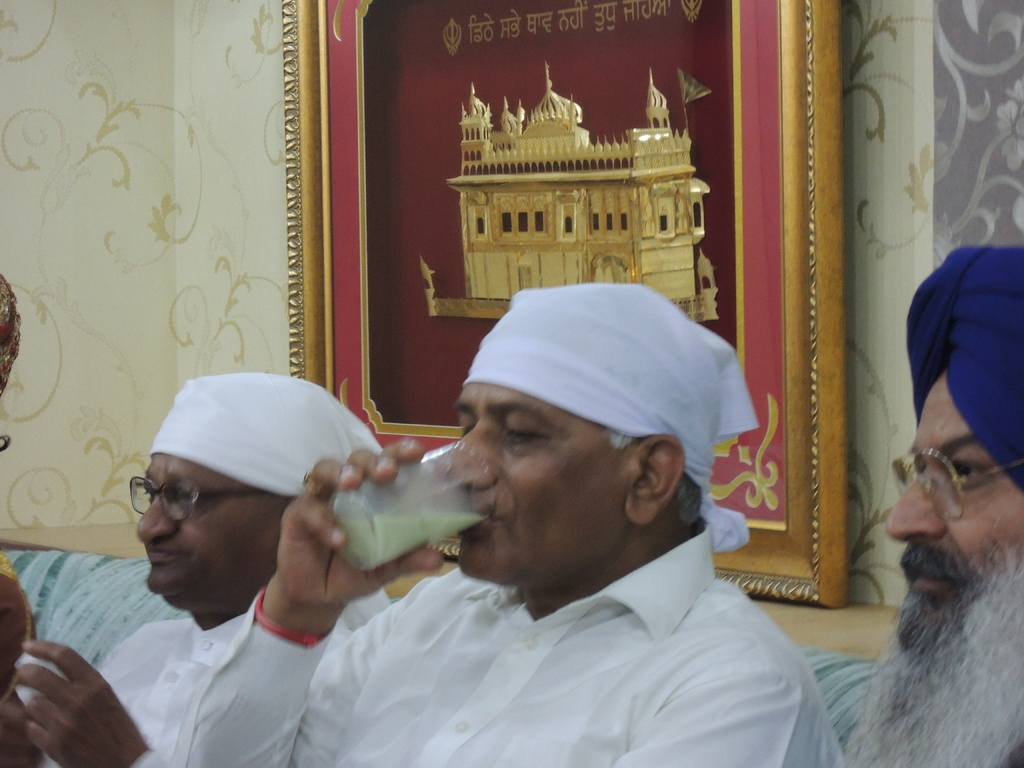Person: (173, 279, 840, 768), (0, 366, 384, 768), (843, 243, 1024, 768)
